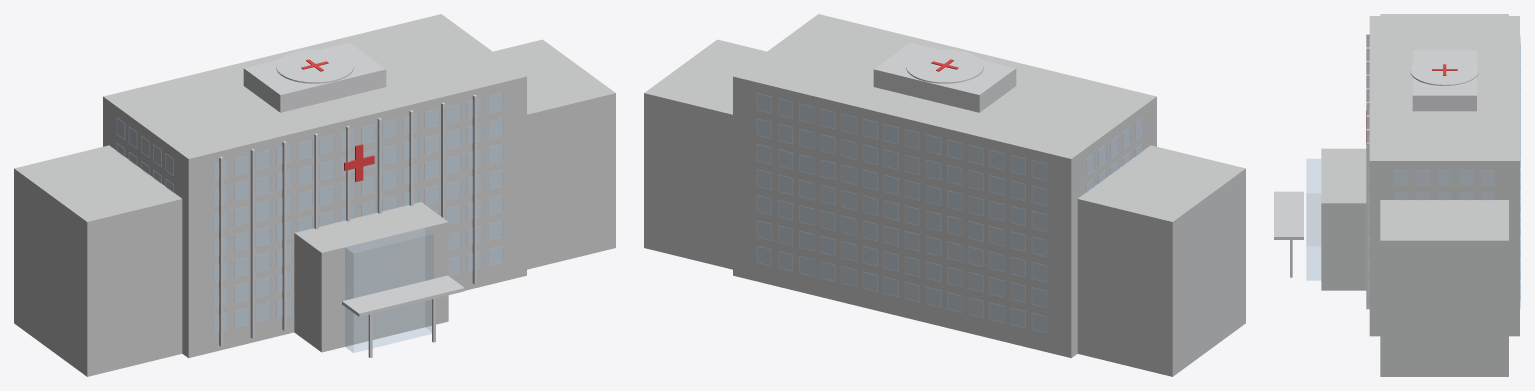
File: hospital.glb
3 renders of one model, left to right at view 1: azimuth 30°, elevation 25°; view 2: azimuth 150°, elevation 25°; view 3: azimuth 270°, elevation 25°, orthographic. The views are drawn at different scales.
Parts seen in each view (by area): view 1: MainBlock, WingL, WingR, EmergencyFront, Atrium, RoofMechanical, Canopy, Cylinder, Fin-13, Fin-10, Fin-7, Fin11 (+1 smaller); view 2: MainBlock, WingL, WingR, RoofMechanical, Cylinder; view 3: MainBlock, WingR, EmergencyFront, RoofMechanical, Atrium, Cylinder, Canopy, Fin11, WingL.
Boxes of the visible parts, <box> form: MainBlock: <box>103,14,526,358</box>; WingL: <box>14,145,182,376</box>; WingR: <box>493,39,615,269</box>; EmergencyFront: <box>294,202,448,352</box>; Atrium: <box>345,228,433,352</box>; RoofMechanical: <box>243,42,386,112</box>; Canopy: <box>342,275,464,316</box>; Cylinder: <box>276,49,353,83</box>; Fin-13: <box>219,156,223,346</box>; Fin-10: <box>250,149,254,338</box>; Fin-7: <box>282,141,286,330</box>; Fin11: <box>472,94,476,284</box>; MainBlock: <box>733,14,1156,358</box>; WingL: <box>1077,145,1245,376</box>; WingR: <box>644,39,766,269</box>; RoofMechanical: <box>873,42,1016,112</box>; Cylinder: <box>906,49,983,83</box>; MainBlock: <box>1369,16,1519,336</box>; WingR: <box>1380,200,1508,376</box>; EmergencyFront: <box>1321,148,1366,290</box>; RoofMechanical: <box>1412,50,1476,111</box>; Atrium: <box>1306,159,1320,280</box>; Cylinder: <box>1410,56,1478,85</box>; Canopy: <box>1274,191,1303,239</box>; Fin11: <box>1366,142,1369,309</box>; WingL: <box>1380,14,1508,15</box>.
Bounding box in the file's own units: 50 × 19.94 × 23.
